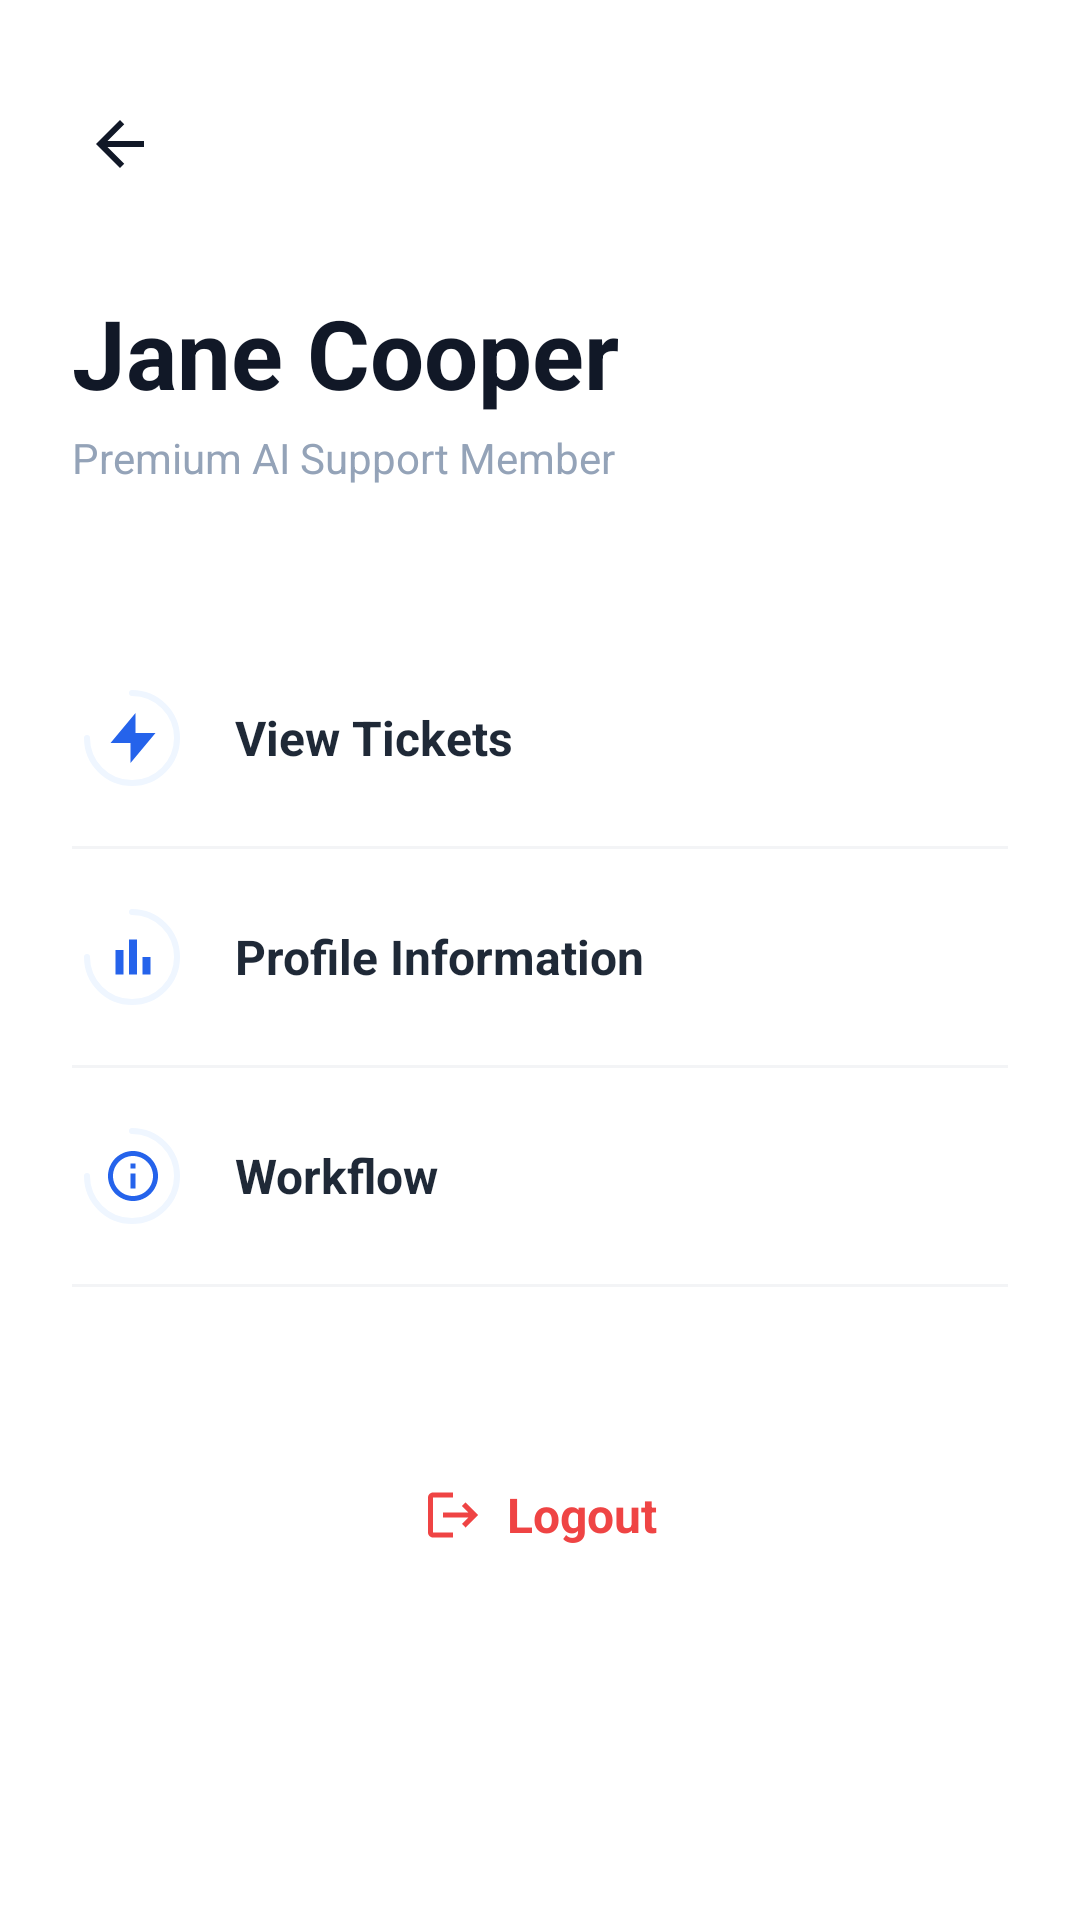

Where icons sit on this 1080px x 1920px app screen, as BBox(x1, y1, x2, y2):
arrow back: BBox(96, 120, 144, 168)
bar chart: BBox(115, 939, 151, 975)
info circle: BBox(108, 1151, 158, 1201)
